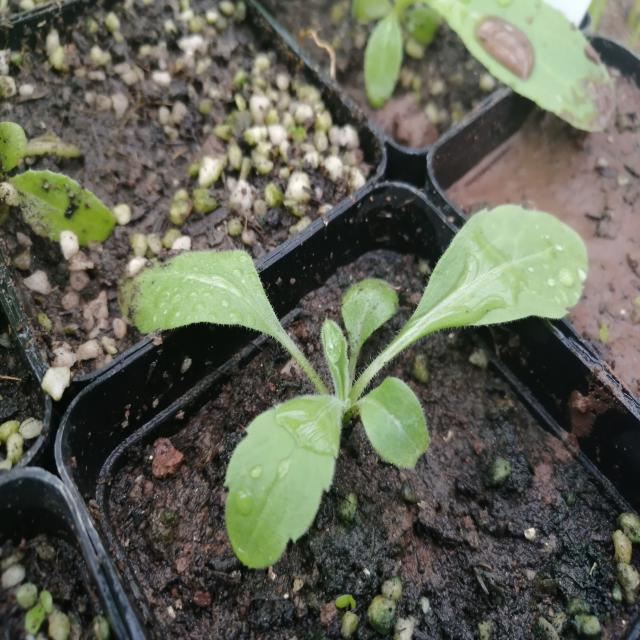horseweed: (135, 216, 595, 530)
